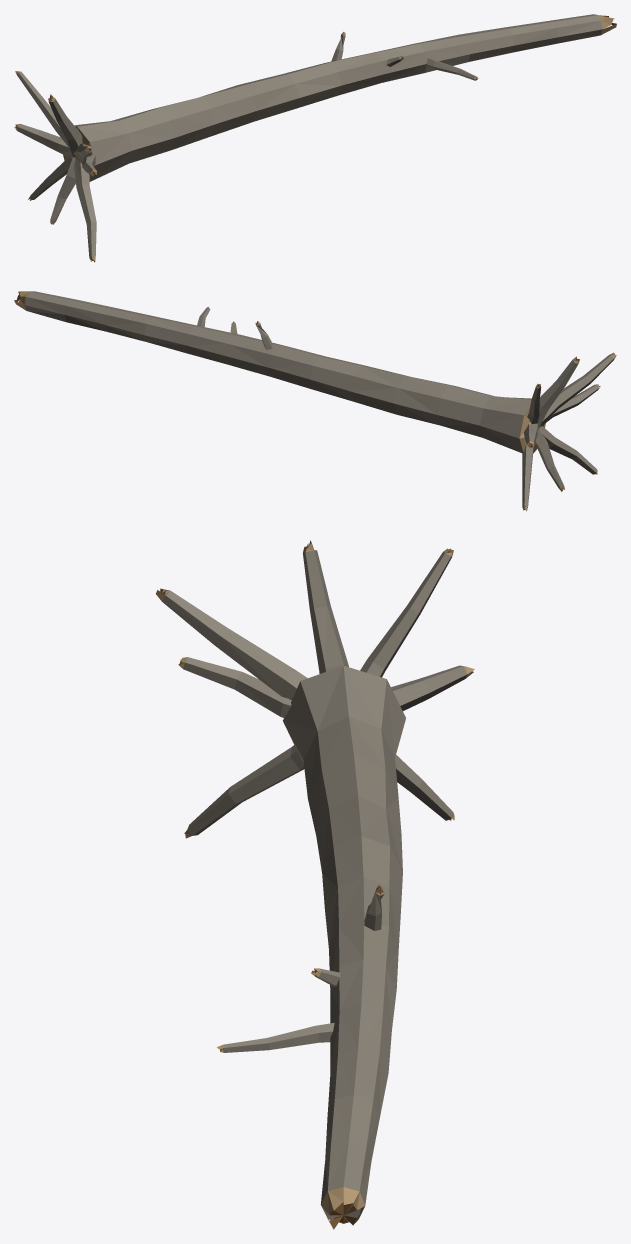
Rendered from driftwood-1.glb.
3 views of the same model, one above another, from view 1: azimuth 30°, elevation 25°; view 2: azimuth 150°, elevation 25°; view 3: azimuth 270°, elevation 25° (orthographic). The views are drawn at different scales.
Parts seen in each view (by area): view 1: driftwood; view 2: driftwood; view 3: driftwood.
Part boxes in pixels (x1=…): driftwood: x1=14, y1=14, x2=616, y2=262; driftwood: x1=14, y1=291, x2=616, y2=511; driftwood: x1=156, y1=540, x2=474, y2=1229.
Bounding box in the file's own units: 6.86 × 1.69 × 1.7.
